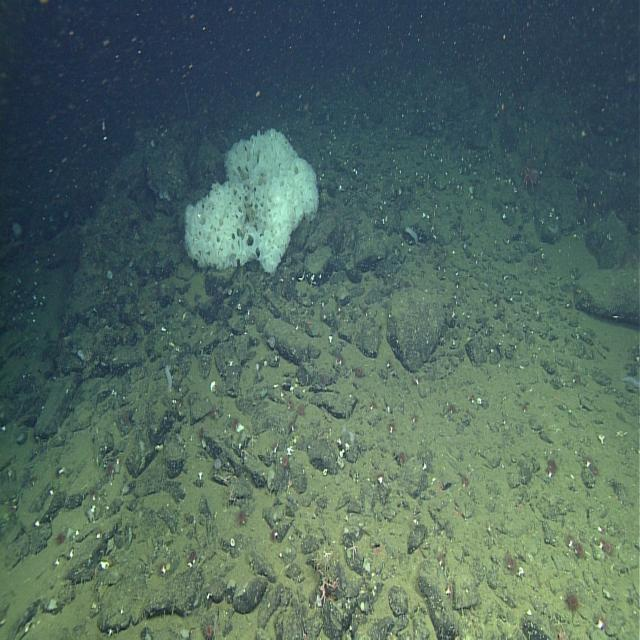Brittle Star: (348, 536, 361, 562)
